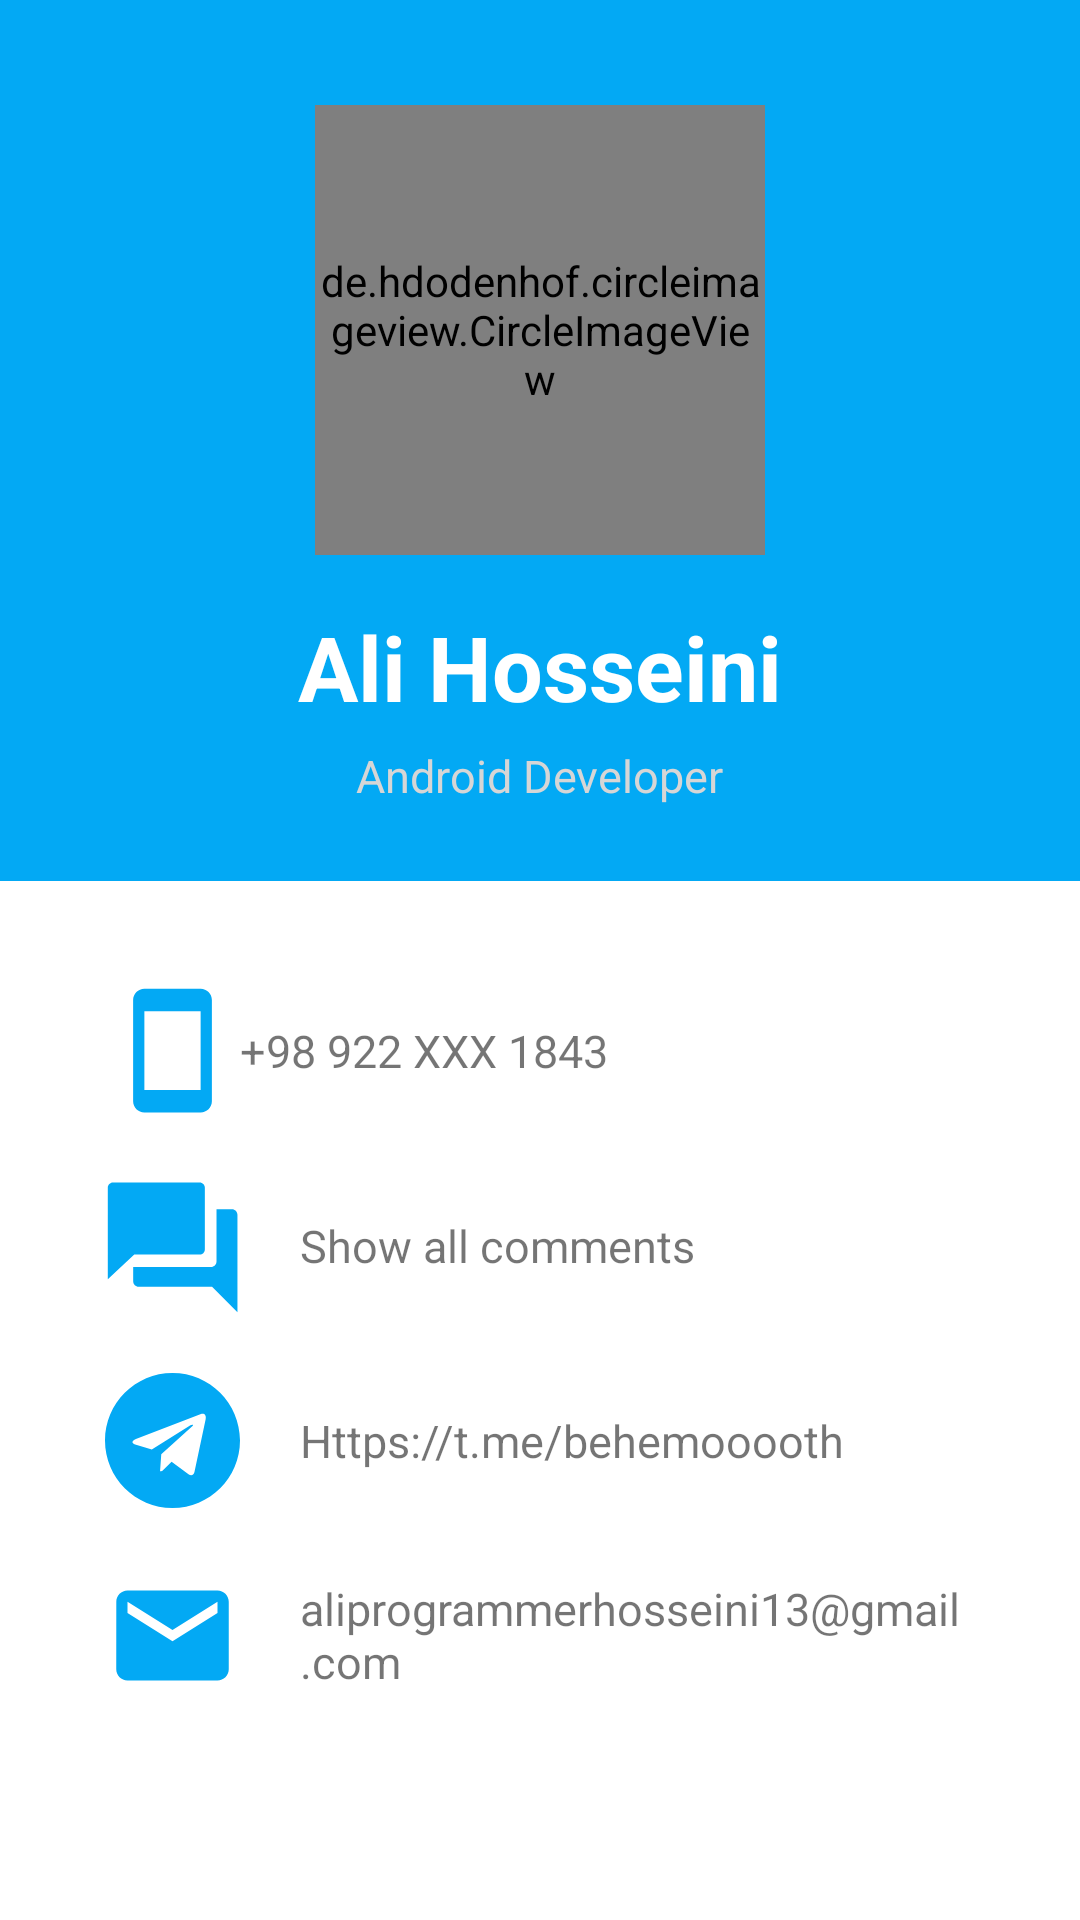

Where to tap for icons on this 1080 × 1920 app screen, as (x=x, y=y):
dialog: (x=172, y=1247)
email: (x=172, y=1635)
smartphone: (x=172, y=1050)
